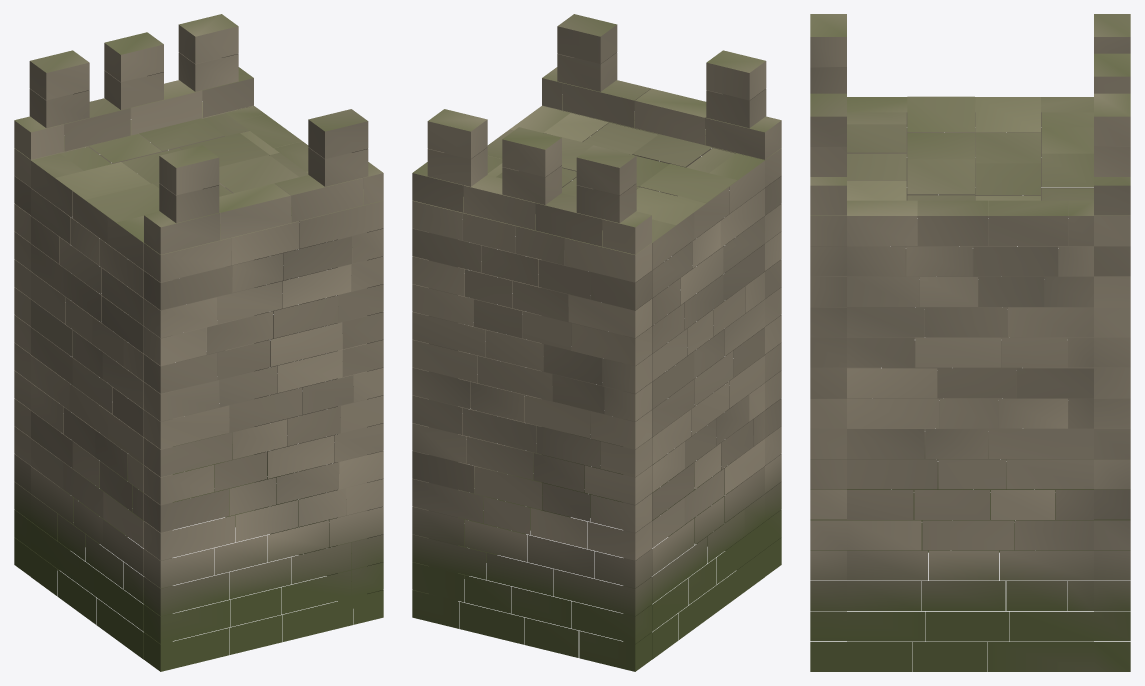
The model's file is citadel_wall_mid.glb.
3 views of the same model, side by side, from view 1: azimuth 30°, elevation 25°; view 2: azimuth 150°, elevation 25°; view 3: azimuth 270°, elevation 25° (orthographic). The views are drawn at different scales.
Visible parts, largest first — view 1: citadel_wall_mid; view 2: citadel_wall_mid; view 3: citadel_wall_mid.
Boxes of the visible parts, x1,y1,x2,y2 form: citadel_wall_mid: (14, 14, 383, 671); citadel_wall_mid: (412, 14, 781, 671); citadel_wall_mid: (810, 14, 1130, 671).
Bounding box in the file's own units: 18.5 × 39.57 × 21.
